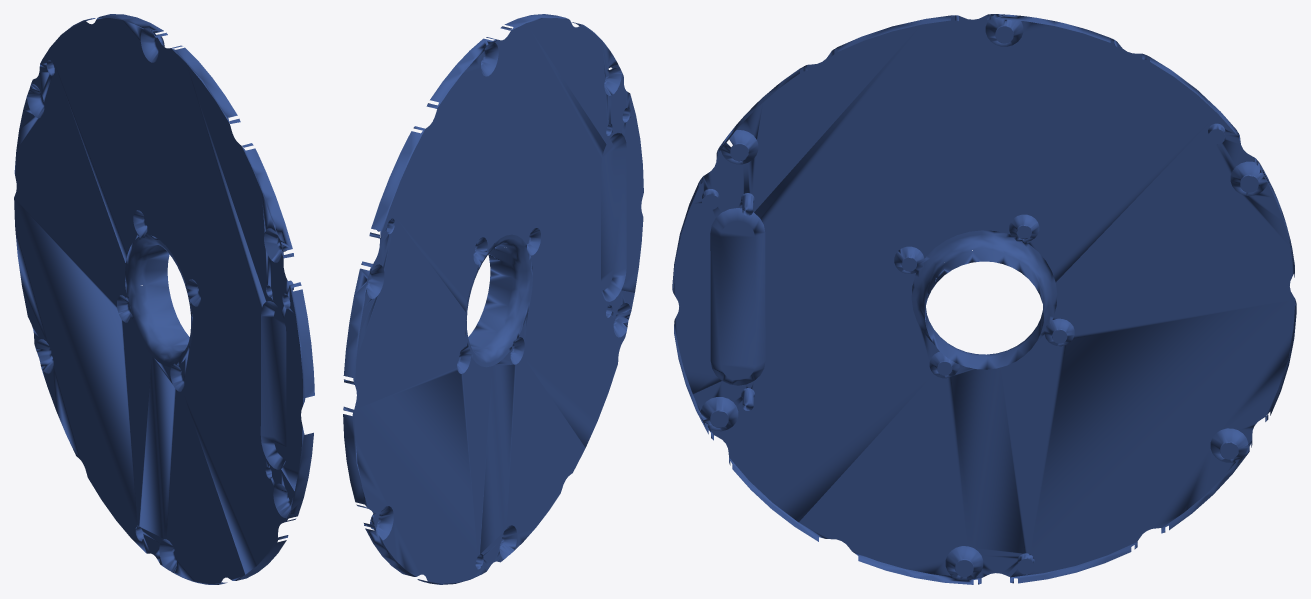
File: anymal_thigh_l_0.obj
3 renders of one model, left to right at view 1: azimuth 30°, elevation 25°; view 2: azimuth 150°, elevation 25°; view 3: azimuth 270°, elevation 25°, orthographic. The views are drawn at different scales.
Visible parts, largest first — view 1: anymal_thigh_l_0; view 2: anymal_thigh_l_0; view 3: anymal_thigh_l_0.
Boxes of the visible parts, left/top/right/bottom form: anymal_thigh_l_0: left=14, top=14, right=314, bottom=584; anymal_thigh_l_0: left=343, top=14, right=643, bottom=584; anymal_thigh_l_0: left=672, top=14, right=1296, bottom=584.
Bounding box in the file's own units: 0.00654 × 0.0899 × 0.0899.
